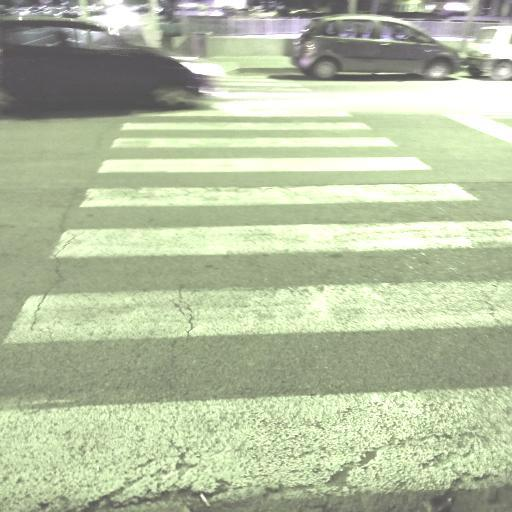crosswalk: (0, 213, 512, 363), (89, 132, 435, 179)
